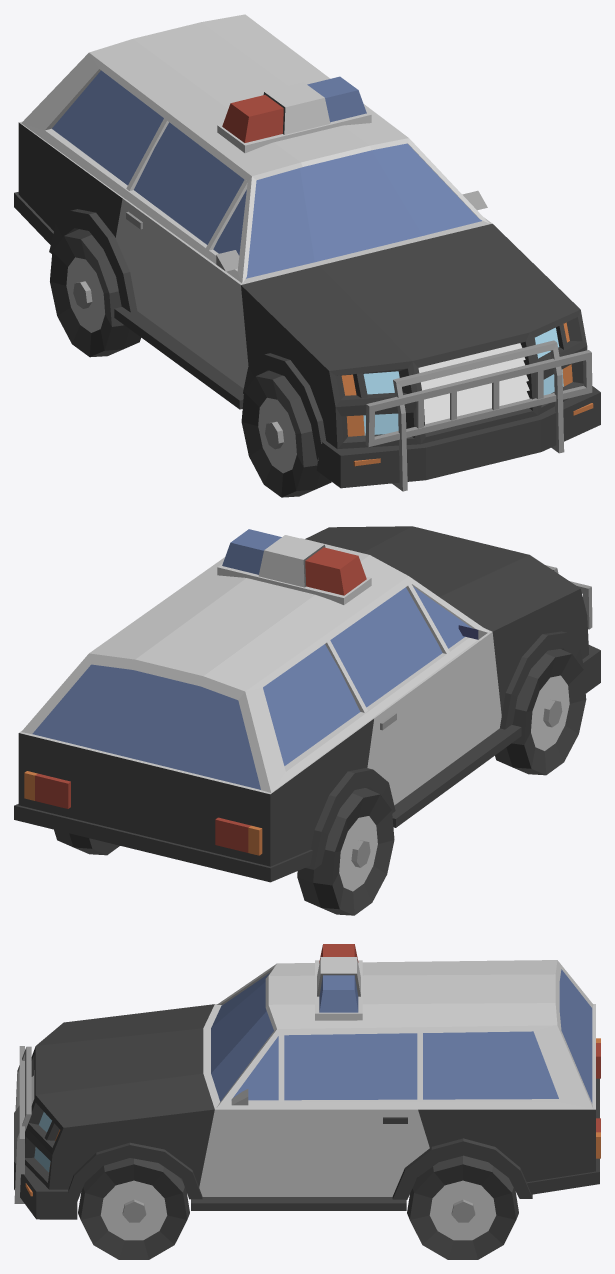
File: transport_purpose_010.glb
3 renders of one model, top to bottom at view 1: azimuth 30°, elevation 25°; view 2: azimuth 150°, elevation 25°; view 3: azimuth 270°, elevation 25°, orthographic. The views are drawn at different scales.
Visible parts, largest first — view 1: transport_purpose_010; view 2: transport_purpose_010; view 3: transport_purpose_010.
Part boxes in pixels (x1,y1,x2,y2): transport_purpose_010: [14, 14, 600, 497]; transport_purpose_010: [14, 526, 600, 915]; transport_purpose_010: [14, 944, 600, 1259].
Size of the model in its own units: 1.76 by 1.64 by 3.68.
Materials: 1 (1 with a texture image).
